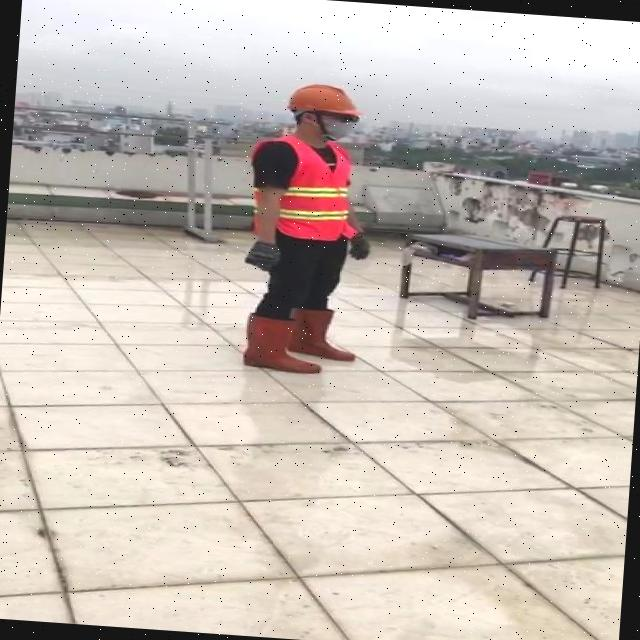helmet: (282, 80, 366, 116)
vest: (248, 134, 368, 239)
